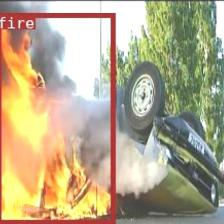fire: (0, 13, 114, 224)
